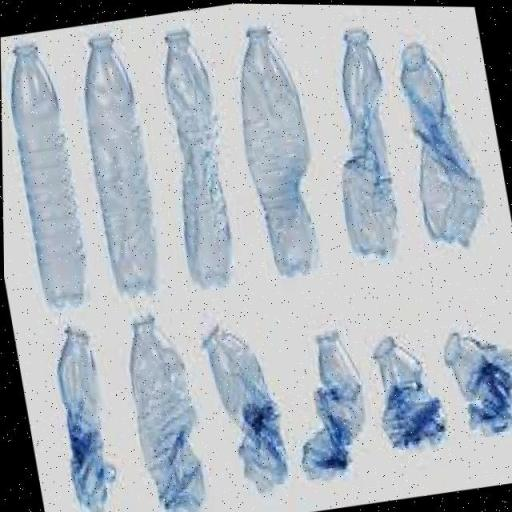plastic: (11, 42, 90, 312), (85, 35, 157, 301)
